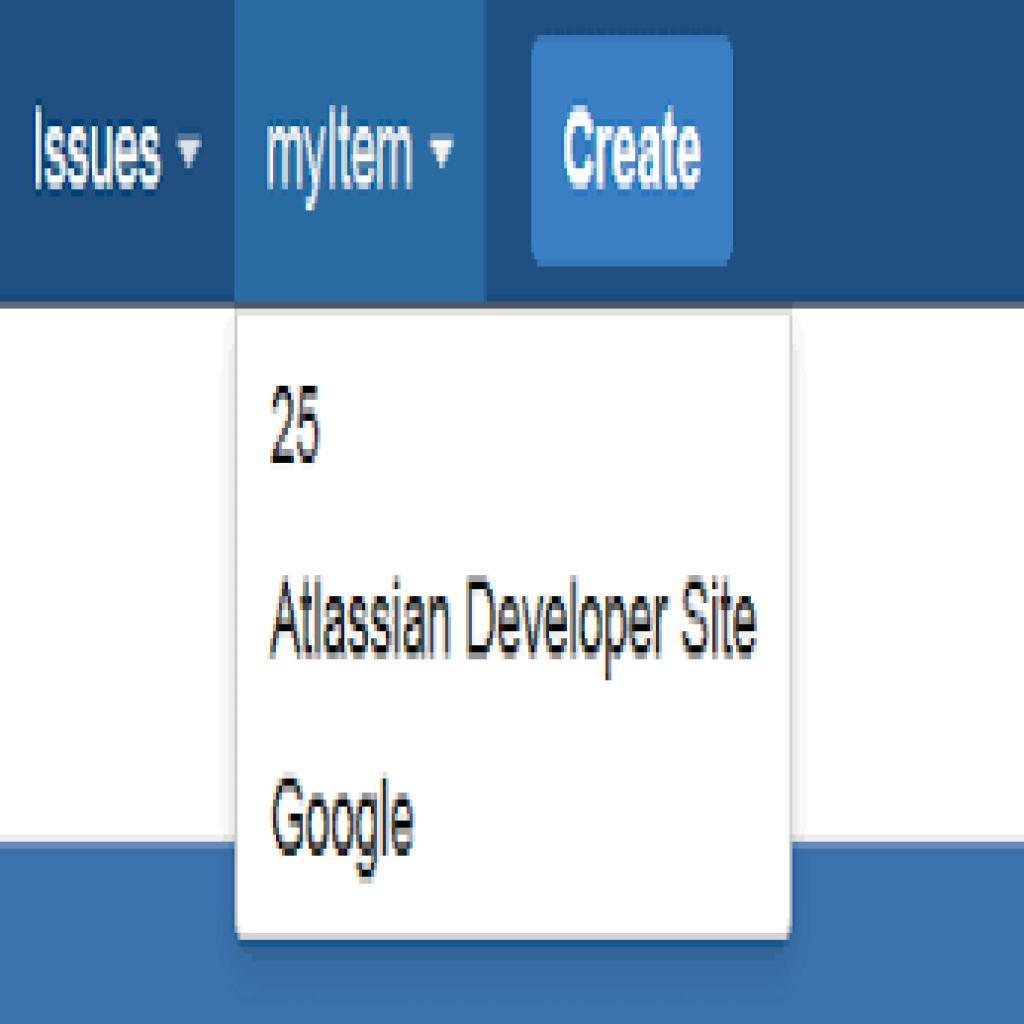button: (532, 35, 736, 268)
dropdown: (237, 3, 487, 311), (1, 4, 238, 308)
label: (267, 577, 762, 685), (267, 772, 418, 885), (271, 378, 324, 471)
